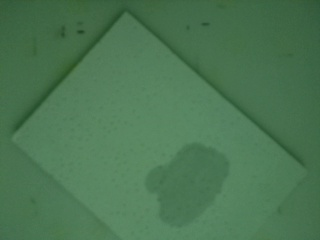Water_detected: (155, 151, 216, 211)
